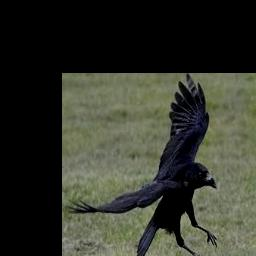Crow: (68, 73, 217, 256)
